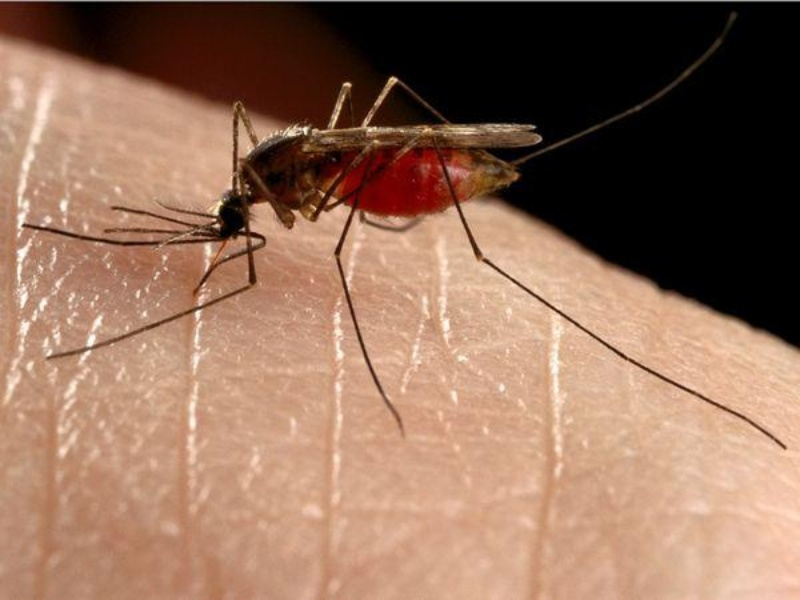dengue_mosquito: (60, 74, 542, 294)
